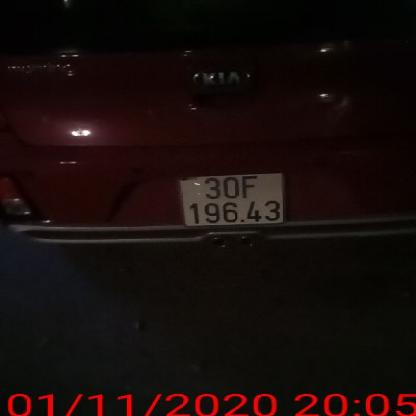biensoxe: (177, 169, 294, 229)
